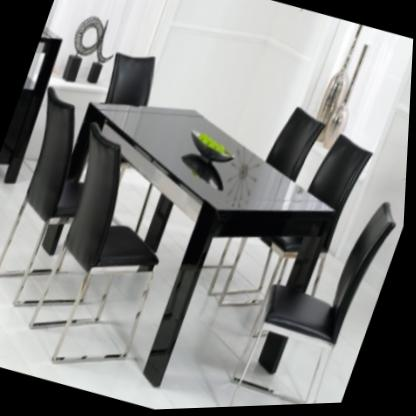Dining Table: (0, 17, 415, 416)
